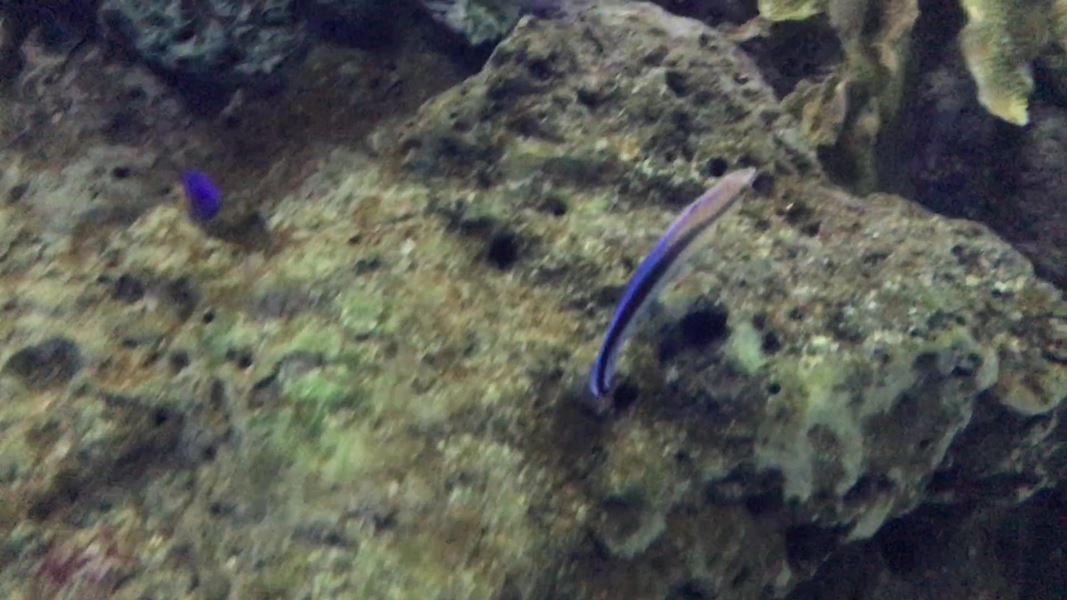Bluesteak cleaner wrasse: (579, 154, 768, 417)
